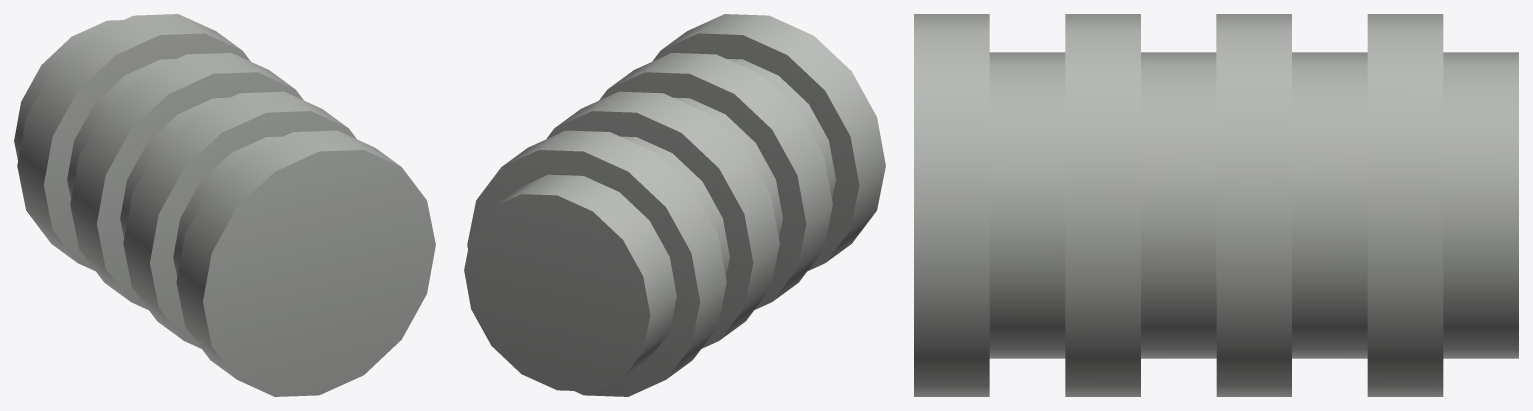
The model's file is Ridged_Cylinder.fbx.
3 renders of one model, left to right at view 1: azimuth 30°, elevation 25°; view 2: azimuth 150°, elevation 25°; view 3: azimuth 270°, elevation 25°, orthographic. The views are drawn at different scales.
Visible parts, largest first — view 1: Ridged_Cylinder; view 2: Ridged_Cylinder; view 3: Ridged_Cylinder.
Part boxes in pixels (x1,y1,x2,y2): Ridged_Cylinder: (14, 14, 435, 396); Ridged_Cylinder: (464, 14, 885, 396); Ridged_Cylinder: (914, 14, 1518, 396).
Size of the model in its own units: 146 by 146 by 230.
